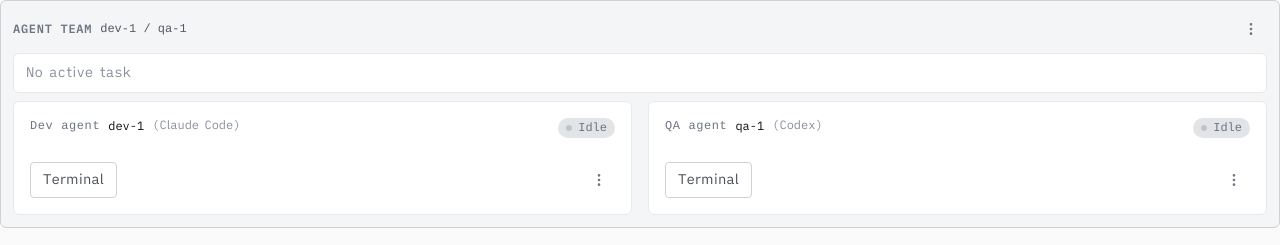
Test: AgentTeam actions menu › reports which team member failed when only one agent rejects
Click the button named "Agent Team dev-1 / qa-1 actions menu" at [1251, 29], box [1235,13,1267,45]
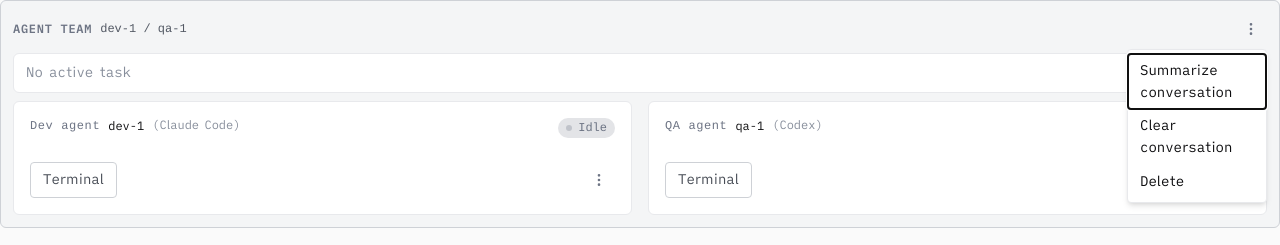
Click the menu item "Summarize conversation" at [1197, 82], box [1128,54,1266,109]
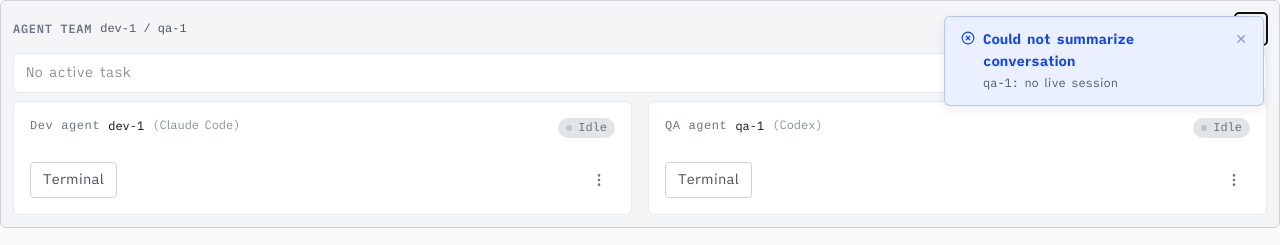
Now the text "qa-1: no live session" is shown, box [983,76,1118,91]
